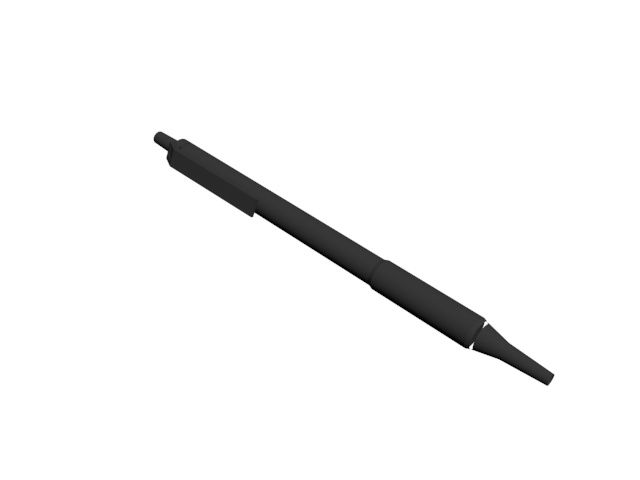pen: (153, 129, 560, 392)
